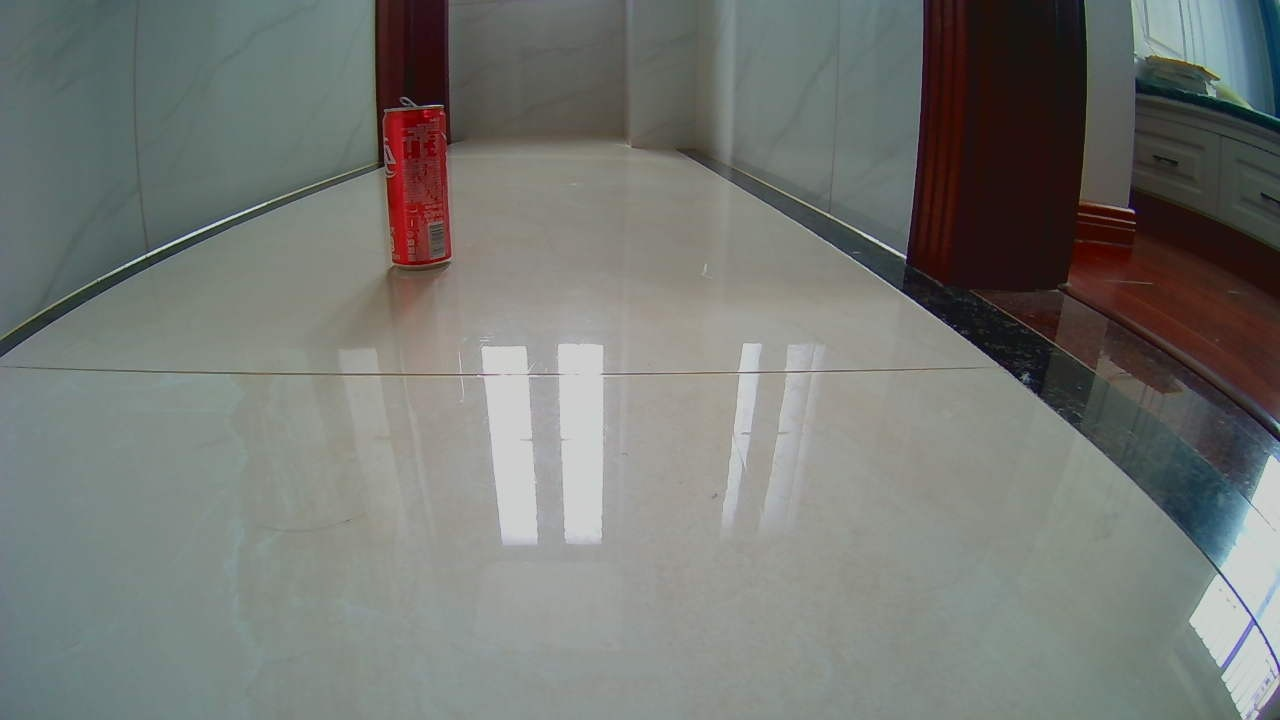cola: (382, 110, 455, 272)
